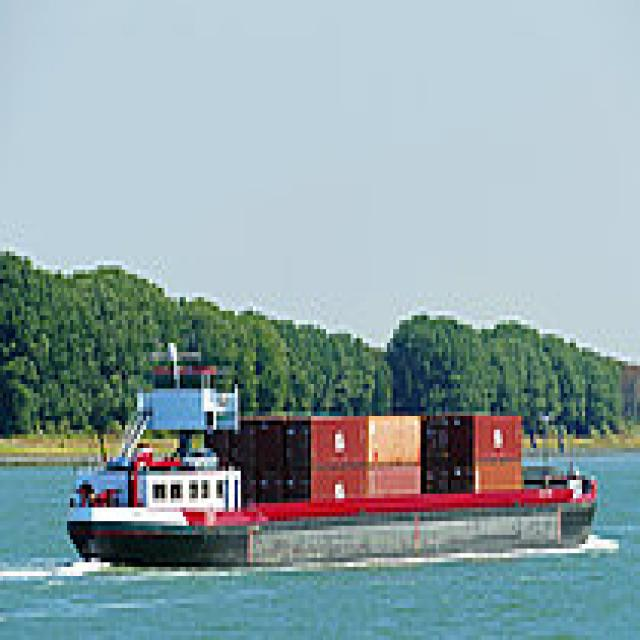Cargo: (64, 334, 597, 571)
